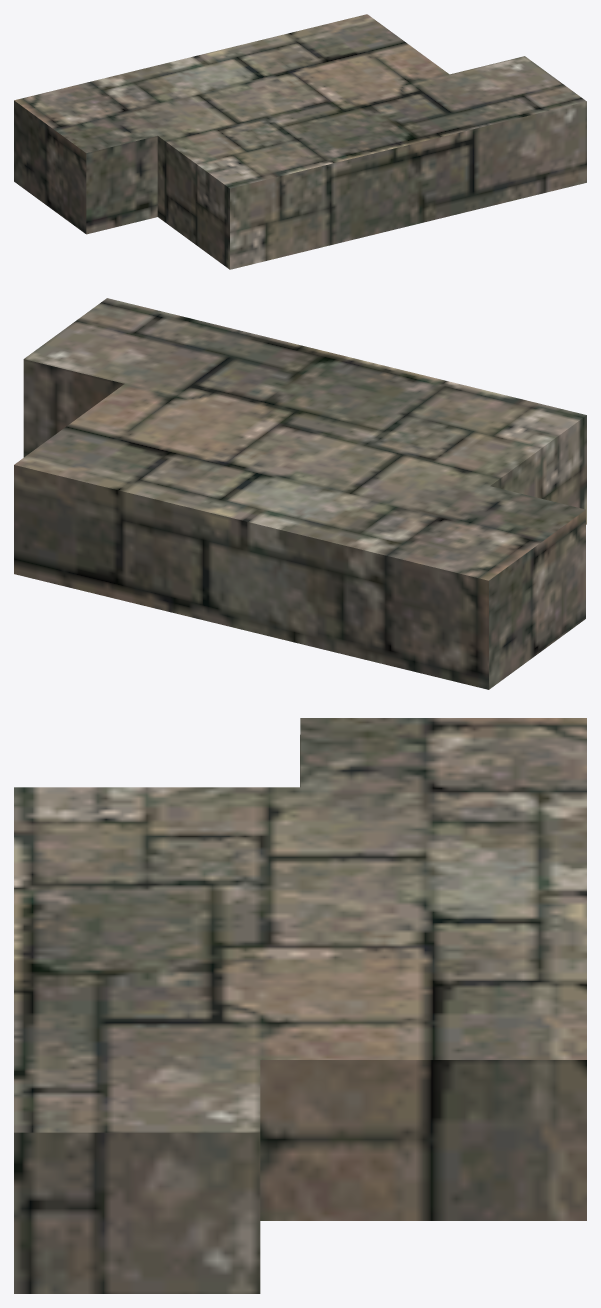
The model's file is d_stone5.glb.
The picture shows the model from 3 angles, top to bottom: view 1: azimuth 30°, elevation 25°; view 2: azimuth 150°, elevation 25°; view 3: azimuth 270°, elevation 25°; orthographic projection. The views are drawn at different scales.
Visible parts, largest first — view 1: d_stone5-col; view 2: d_stone5-col; view 3: d_stone5-col.
Part boxes in pixels (box(x1,y1,x2,y2)): d_stone5-col: box(14, 14, 586, 269); d_stone5-col: box(14, 298, 586, 689); d_stone5-col: box(14, 718, 586, 1293).
Bounding box in the file's own units: 0.9385 × 0.17 × 0.548.
1 material, 1 textured.
